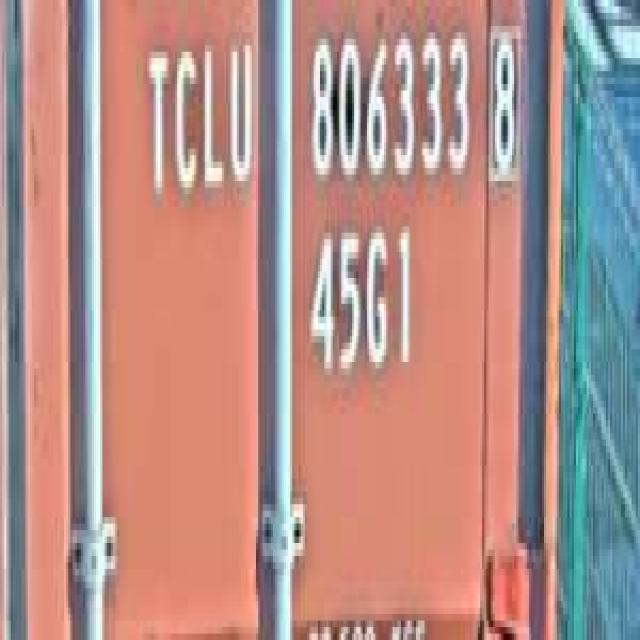dv: (484, 0, 524, 187)
owner: (139, 20, 256, 214)
serial: (303, 13, 474, 194)
size: (303, 207, 418, 394)
